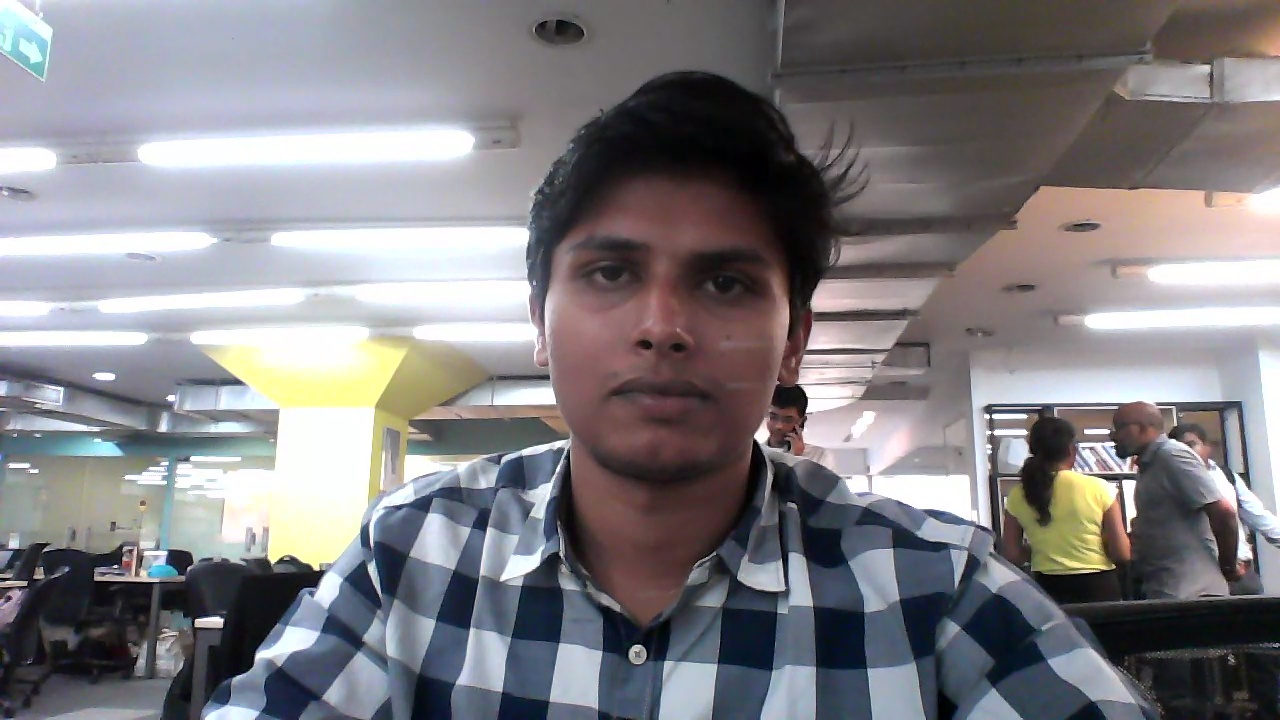open: (521, 69, 822, 483)
